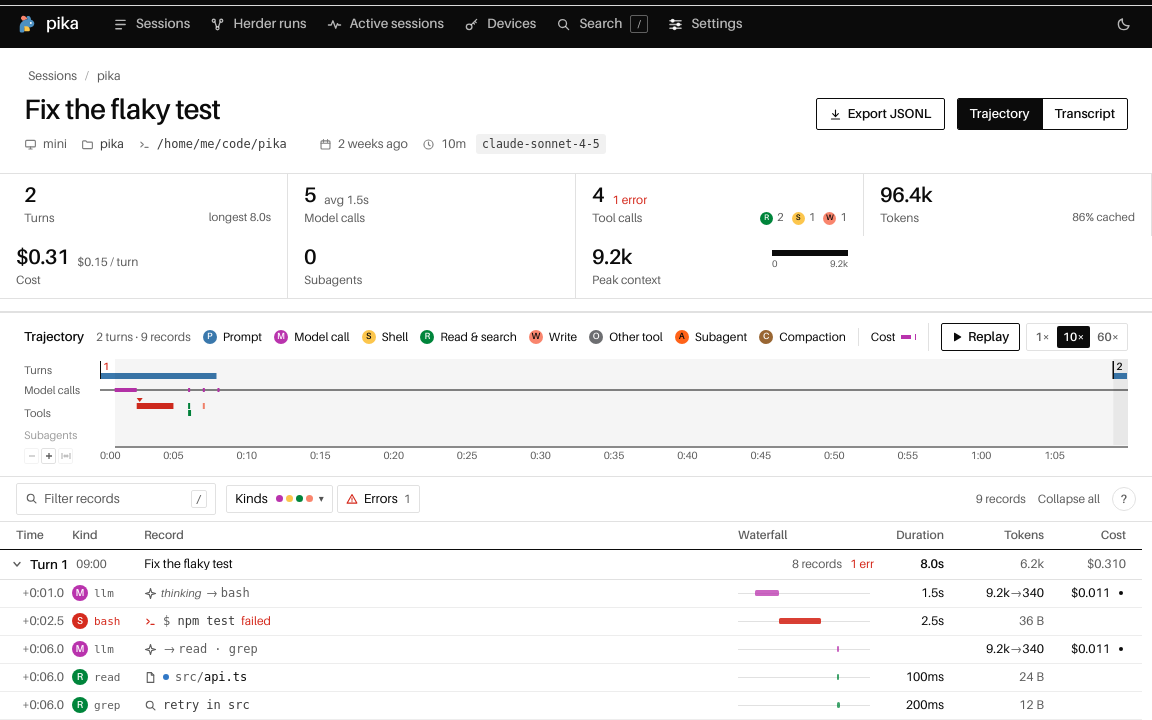
trajectory ledger › inspects a record, loading only its entries, with Rendered, Input, Output, and Raw tabs
This screenshot has width=1152, height=720.
Click the option "+0:02.5 S BASH $ npm test failed 2.5s 36 B".
click(43, 621)  # box [0,608,1142,636]
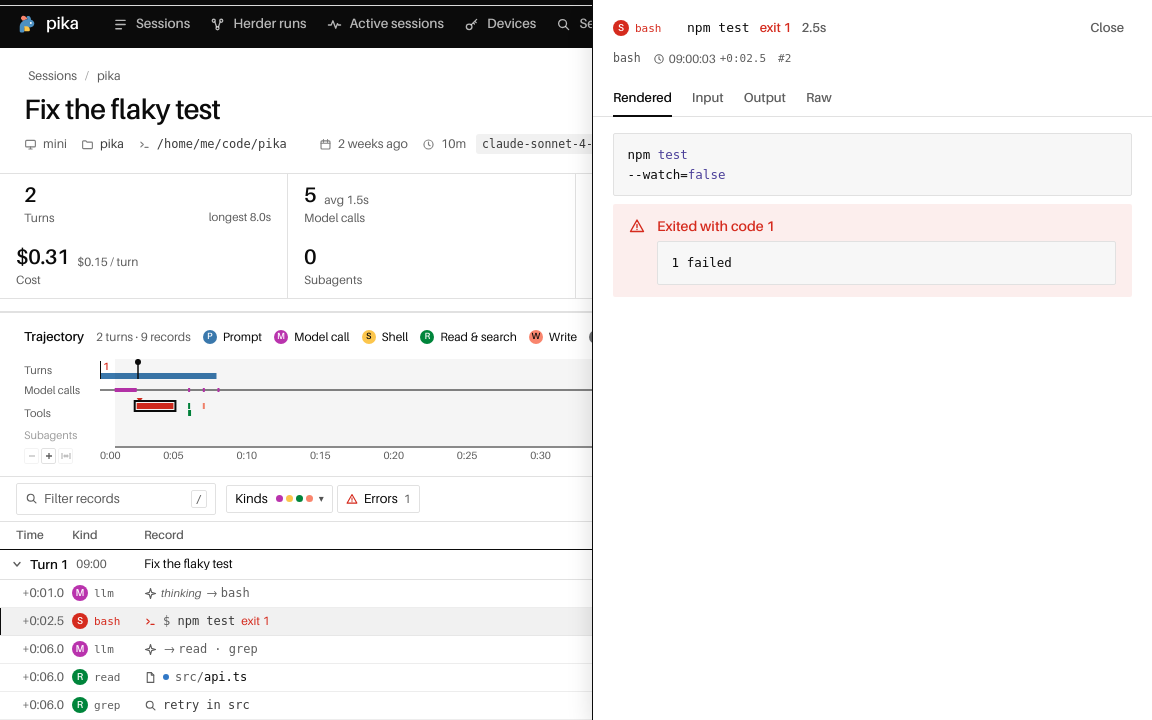
Expected: the element showing "npm test --watch=false Exited with code 1 1 failed" is shown, [613,133,1132,297]
Expected: the message shows "Exited with code 1", [657,218,775,234]
Click the tab "Input".
click(708, 98)  # box [692,80,724,116]
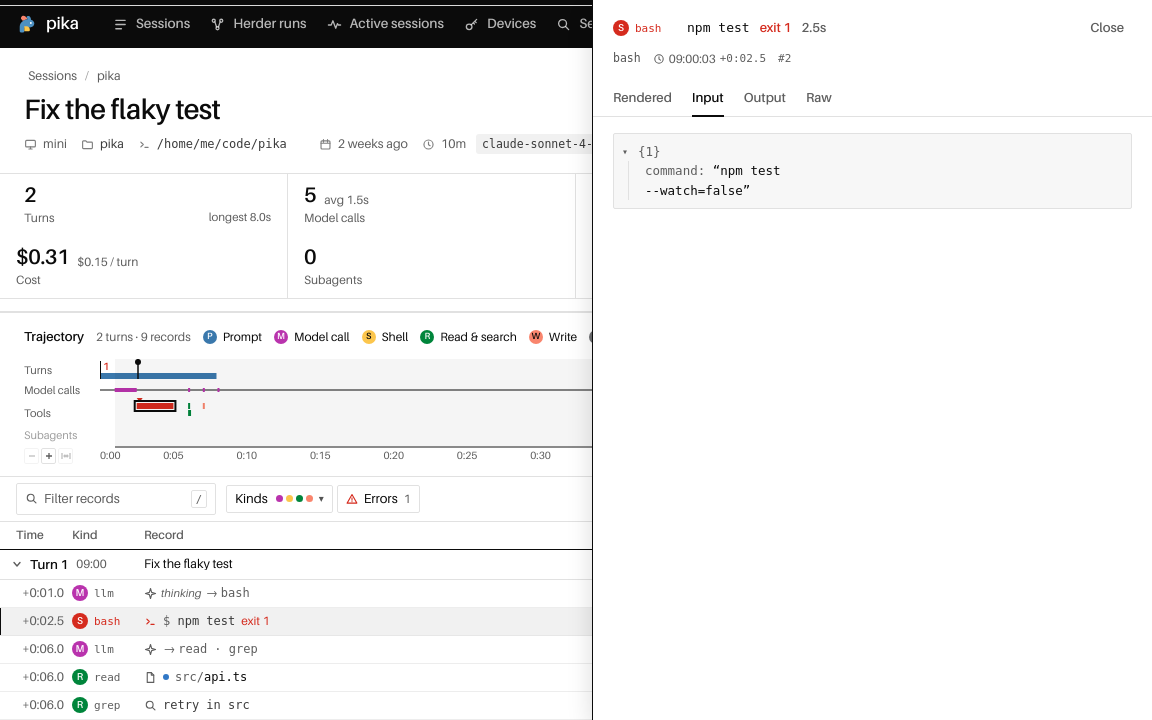
Expected: the element showing "▾ {1} command: “npm test --watch=false”" is shown, [613,133,1132,209]
Click the tab "Output".
click(765, 98)  # box [744,80,786,116]
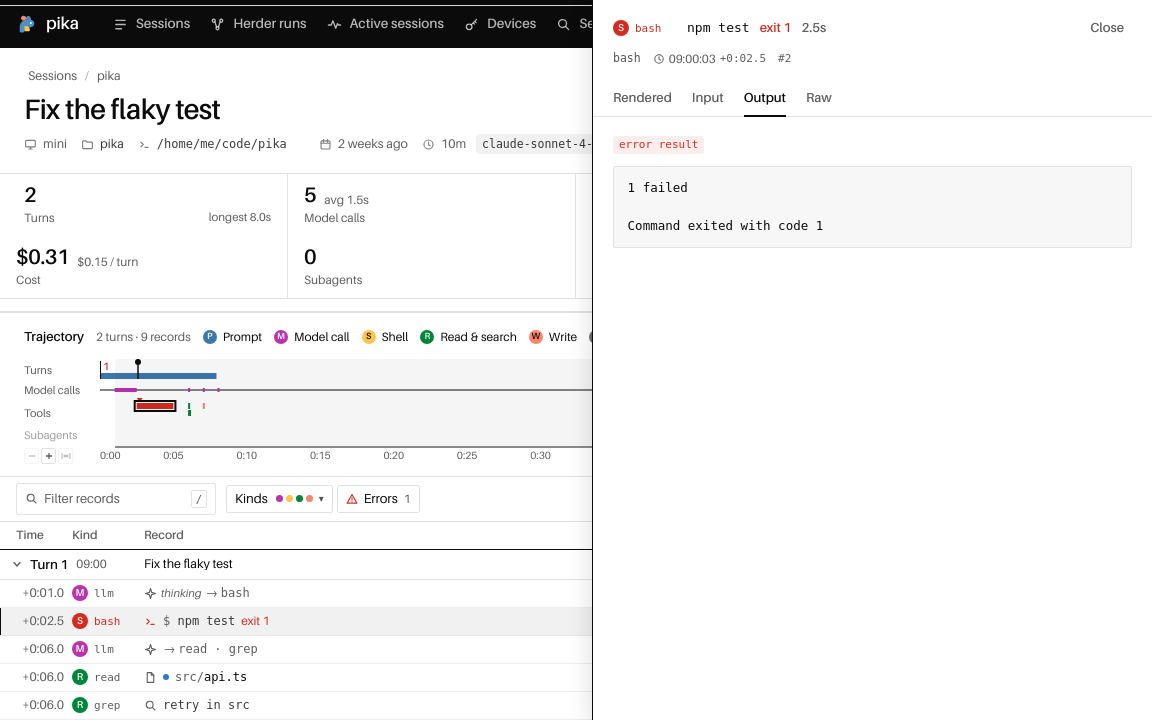
Expected: the text "1 failed" is shown, [628,180,823,234]
Click the tab "Raw".
click(819, 98)  # box [806,80,832,116]
(page scrolled)
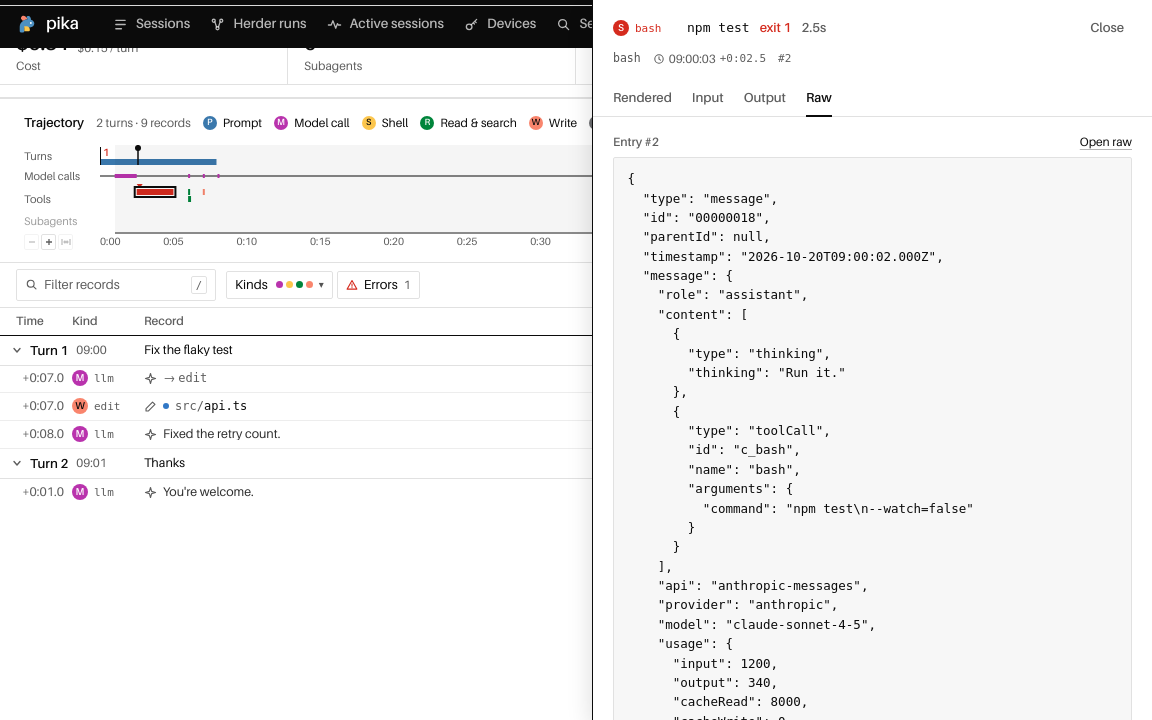
# Selecting the edit reuses the cache for nothing it does not need and shows its diff.
Click the option "+0:07.0 W EDIT src/api.ts 50ms 33 B".
click(43, 406)  # box [0,393,1142,421]
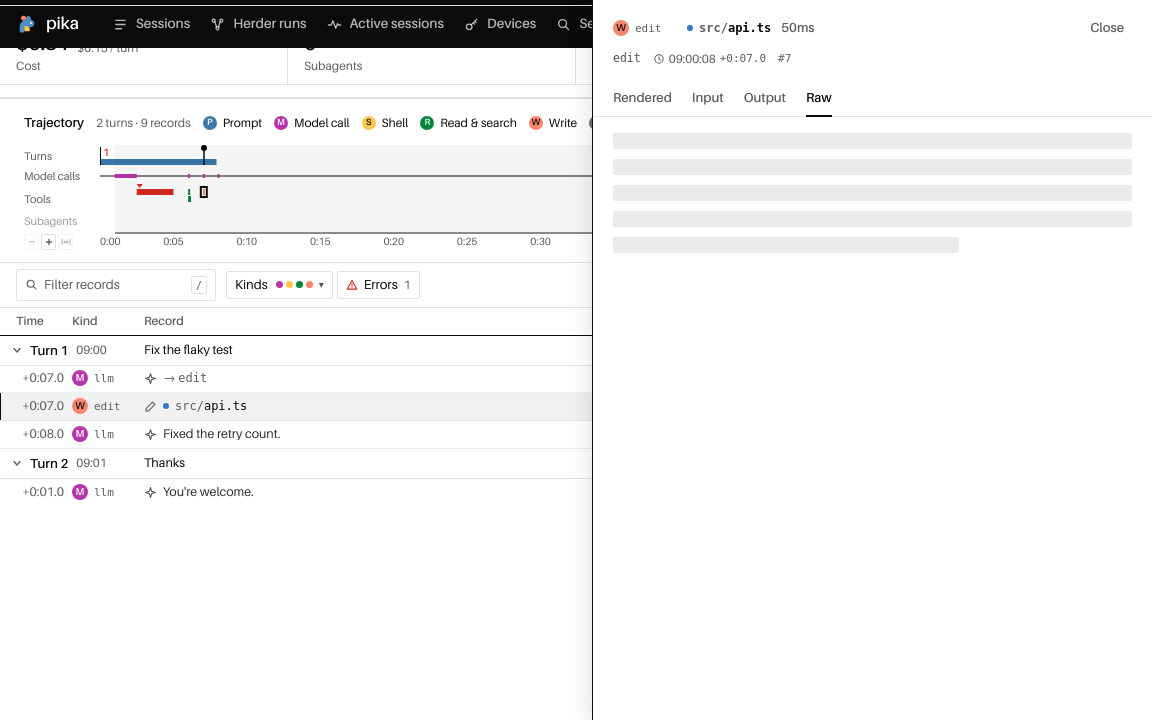
Click the tab "Rendered".
click(642, 98)  # box [613,80,672,116]
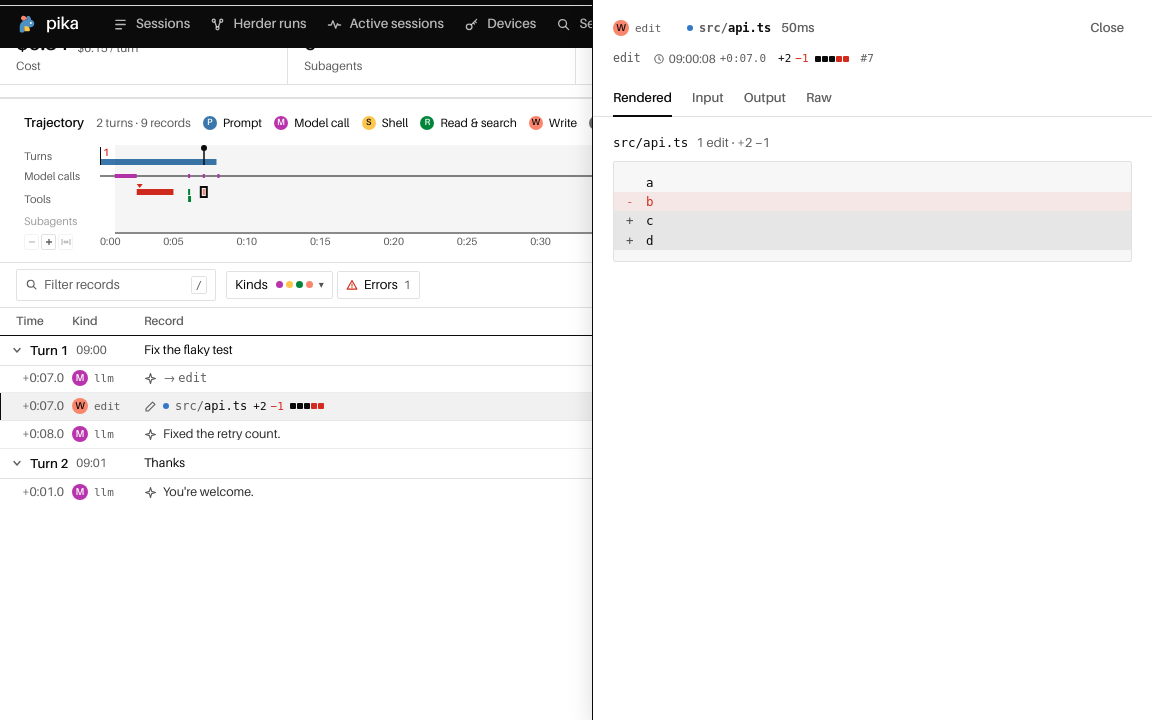
Expected: the element showing "a - b + c + d" is shown, [613,160,1132,262]
